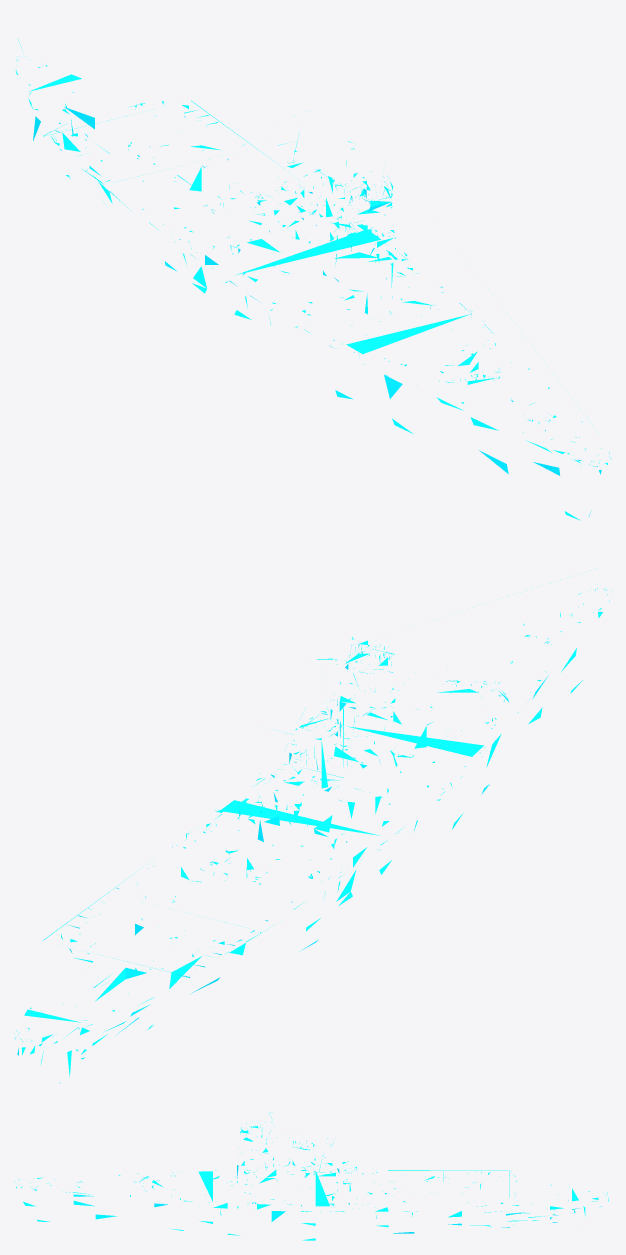
File: Iwami.glb
The picture shows the model from 3 angles, top to bottom: view 1: azimuth 30°, elevation 25°; view 2: azimuth 150°, elevation 25°; view 3: azimuth 270°, elevation 25°; orthographic projection. The views are drawn at different scales.
Bounding box in the file's own units: 2.64 × 3.5 × 17.1.
